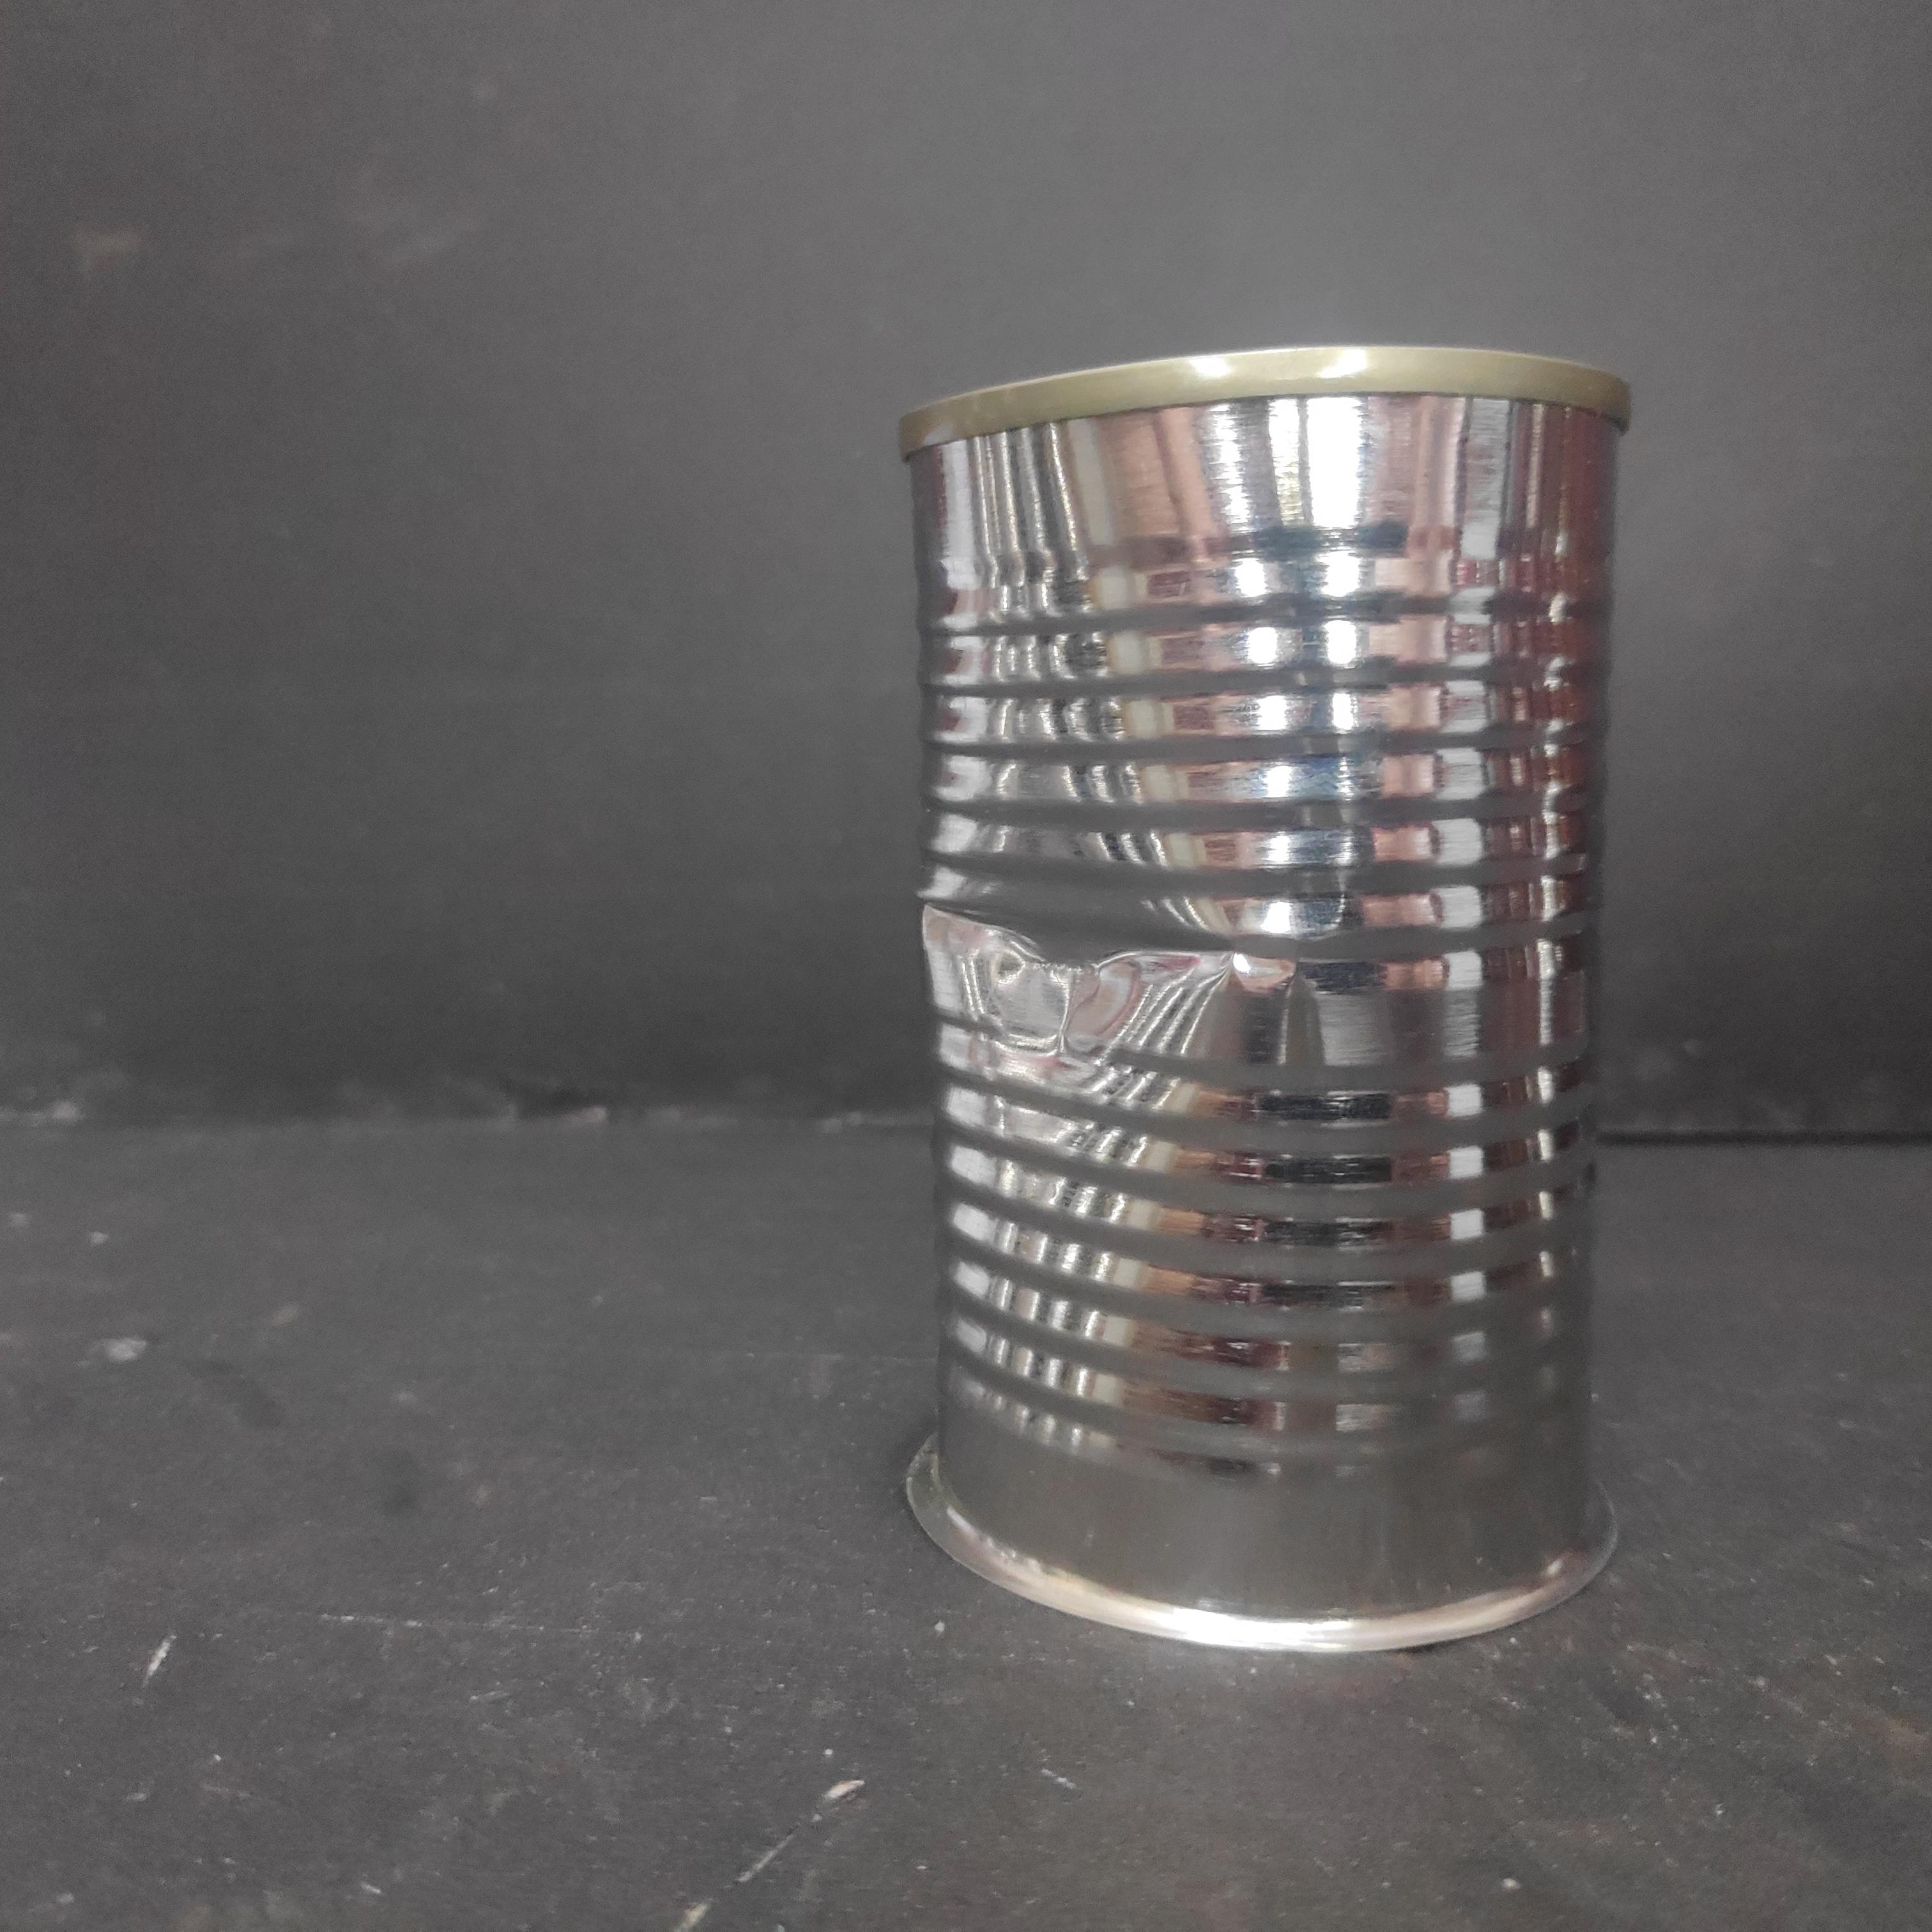Minor Defect: (883, 327, 1649, 1677)
